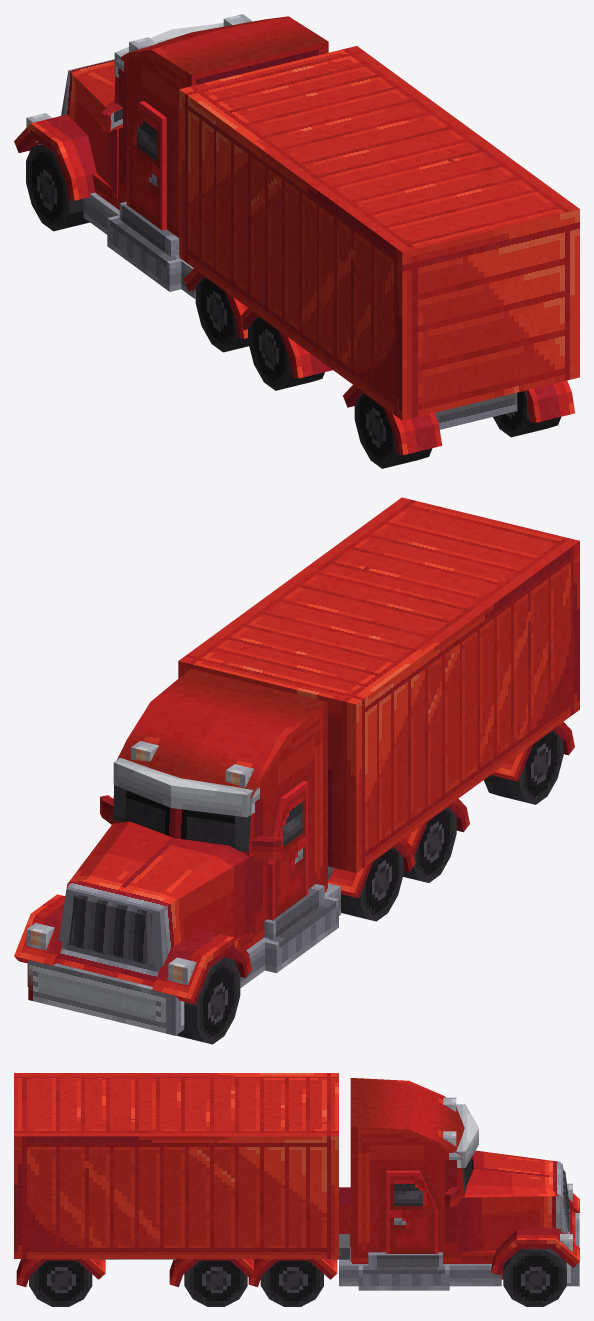
Rendered from truck.gltf.
3 renders of one model, top to bottom at view 1: azimuth 30°, elevation 25°; view 2: azimuth 150°, elevation 25°; view 3: azimuth 270°, elevation 25°, orthographic. The views are drawn at different scales.
Parts seen in each view (by area): view 1: cube (×12), cuboid (×4), cylinder (×5); view 2: cube (×10), cuboid (×5), cylinder (×4); view 3: cube (×13), cuboid (×4), cylinder (×4).
Part boxes in pixels (box(x1,y1,x2,y2)): cube (×12): box(30, 46, 579, 455); cuboid (×4): box(61, 16, 328, 237); cylinder (×5): box(26, 144, 561, 468); cube (×10): box(14, 497, 579, 1035); cuboid (×5): box(58, 668, 327, 972); cylinder (×4): box(176, 730, 563, 1044); cube (×13): box(14, 1073, 579, 1290); cuboid (×4): box(350, 1078, 569, 1261); cylinder (×4): box(29, 1249, 566, 1306).
Size of the model in its own units: 3.49 by 4.43 by 12.97.
Materials: 1 (1 with a texture image).
